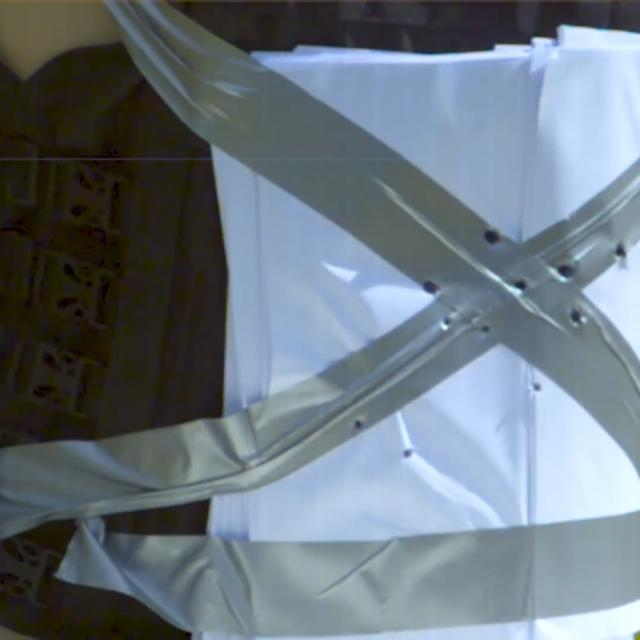bullets: (552, 260, 581, 285), (564, 304, 587, 328), (510, 275, 535, 296), (419, 278, 440, 300), (482, 227, 500, 245), (610, 245, 626, 263), (529, 380, 545, 396), (349, 416, 366, 431), (478, 322, 494, 337), (438, 316, 454, 330), (400, 445, 414, 460)
